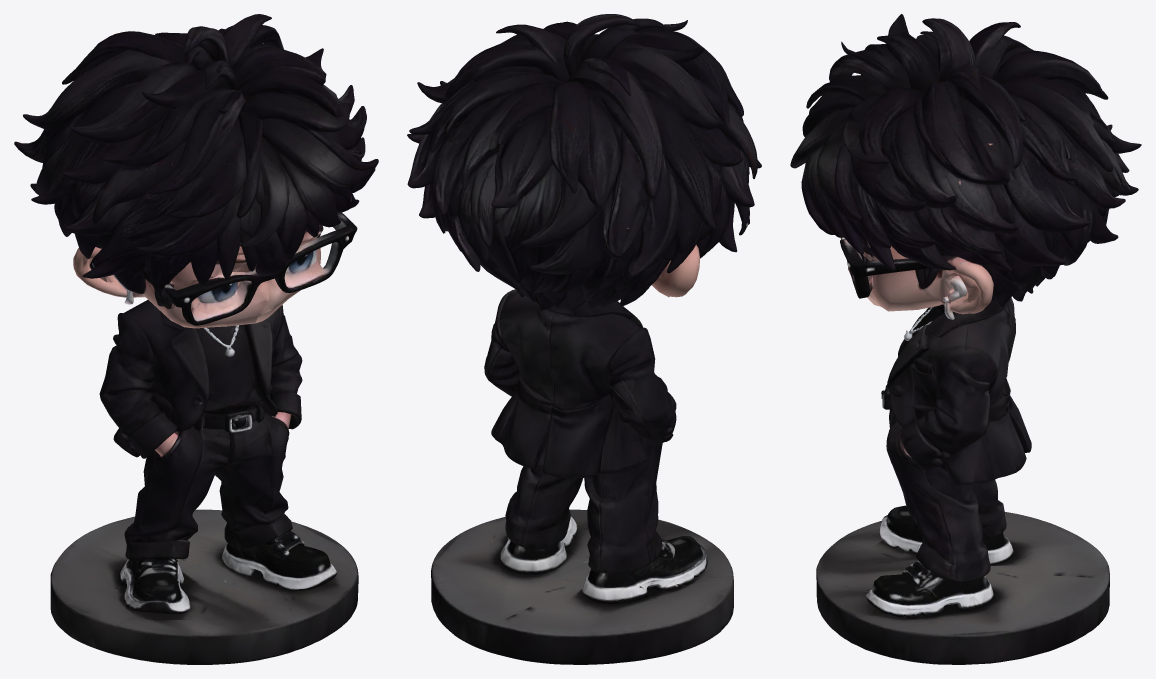
File: suit.glb
The picture shows the model from 3 angles, left to right: view 1: azimuth 30°, elevation 25°; view 2: azimuth 150°, elevation 25°; view 3: azimuth 270°, elevation 25°; orthographic projection. The views are drawn at different scales.
Parts seen in each view (by area): view 1: model; view 2: model; view 3: model.
Boxes of the visible parts, <box> form: model: <box>14,14,378,664</box>; model: <box>407,14,761,664</box>; model: <box>790,14,1141,664</box>.
Size of the model in its own units: 1.03 by 1.9 by 1.05.
Materials: 1 (1 with a texture image).
